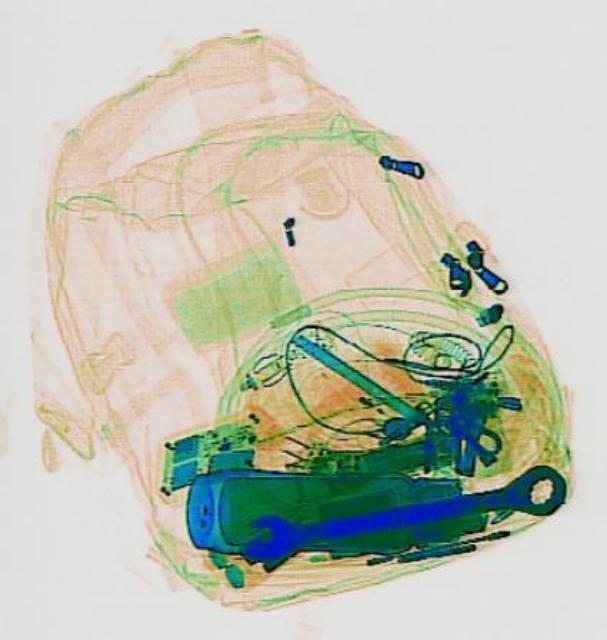Wrench: (237, 460, 566, 562)
